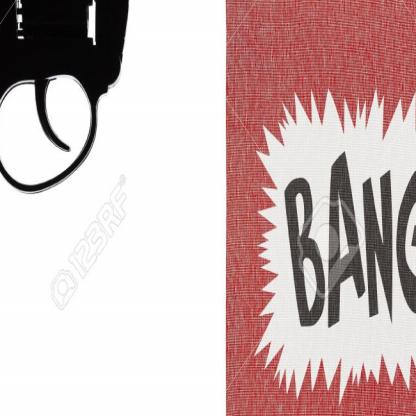gun: (0, 0, 209, 263)
